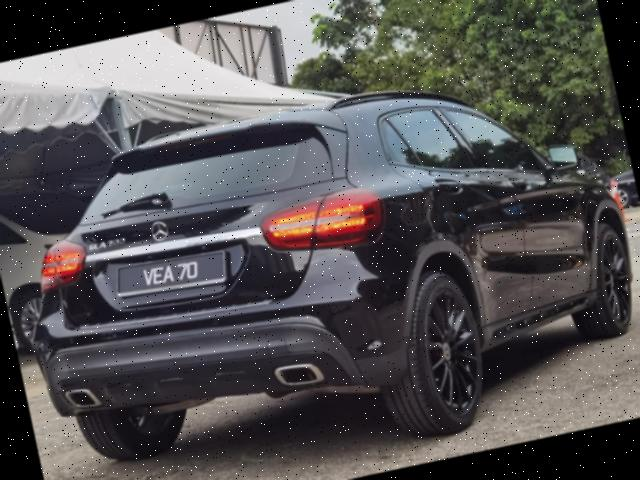License_Plate: (123, 250, 212, 300)
